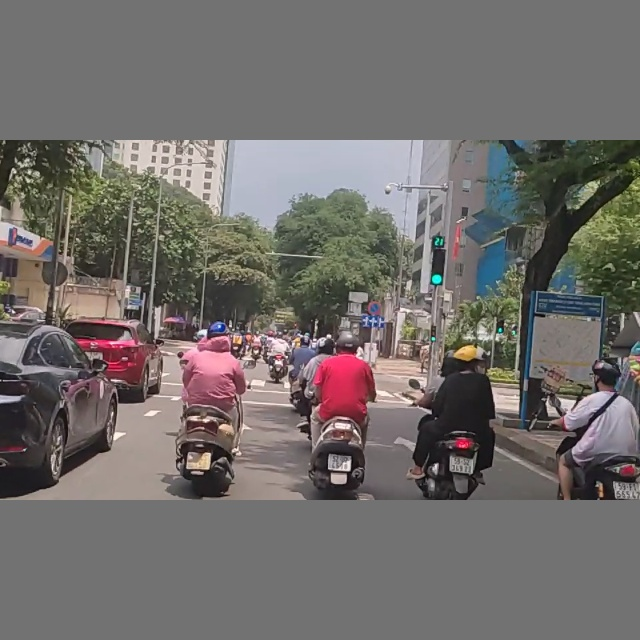P.130: (365, 301, 382, 315)
